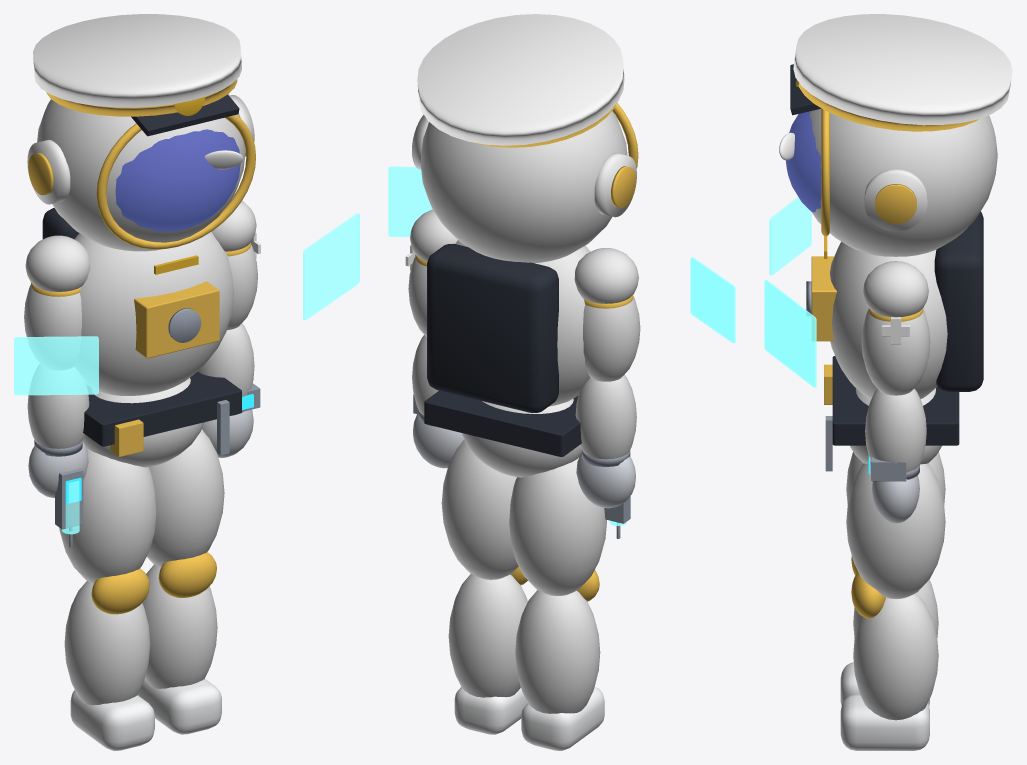
File: astronaut.glb
3 renders of one model, left to right at view 1: azimuth 30°, elevation 25°; view 2: azimuth 150°, elevation 25°; view 3: azimuth 270°, elevation 25°, orthographic.
Visible parts, largest first — view 1: Kit_pilot_CapTop, Torso, Helmet, VisorGlass, ThighR, ShinR, ThighL, ShinL, Kit_engineer_Belt, Kit_analyst_HoloB, ForearmR, ChestBox (+25 smaller); view 2: Kit_pilot_CapTop, Helmet, Pack, ThighR, ShinR, ShinL, ThighL, Kit_engineer_Belt, ForearmR, UpperArmR, Torso, PelvisMesh (+13 smaller); view 3: Kit_pilot_CapTop, Helmet, ThighL, ShinL, Torso, Pack, UpperArmL, Kit_engineer_Belt, ForearmL, Kit_analyst_HoloA, BootL, ShoulderPadL (+16 smaller).
Part boxes in pixels (bbox=[...]): Kit_pilot_CapTop: bbox=[33, 14, 241, 107]; Torso: bbox=[74, 232, 233, 395]; Helmet: bbox=[37, 94, 245, 251]; VisorGlass: bbox=[115, 129, 240, 231]; ThighR: bbox=[59, 447, 156, 583]; ShinR: bbox=[64, 581, 150, 705]; ThighL: bbox=[147, 429, 224, 567]; ShinL: bbox=[142, 564, 217, 688]; Kit_engineer_Belt: bbox=[83, 371, 241, 446]; Kit_analyst_HoloB: bbox=[14, 336, 98, 395]; ForearmR: bbox=[27, 365, 89, 448]; ChestBox: bbox=[134, 281, 219, 358]; Kit_pilot_CapTop: bbox=[417, 14, 624, 145]; Helmet: bbox=[420, 111, 627, 263]; Pack: bbox=[427, 243, 558, 412]; ThighR: bbox=[509, 458, 606, 596]; ShinR: bbox=[515, 590, 600, 713]; ShinL: bbox=[448, 574, 527, 697]; ThighL: bbox=[441, 440, 518, 579]; Kit_engineer_Belt: bbox=[424, 390, 581, 456]; ForearmR: bbox=[575, 375, 636, 459]; UpperArmR: bbox=[583, 296, 640, 381]; Torso: bbox=[455, 240, 590, 406]; PelvisMesh: bbox=[462, 399, 581, 477]; Kit_pilot_CapTop: bbox=[793, 14, 1012, 125]; Helmet: bbox=[809, 109, 997, 256]; ThighL: bbox=[846, 463, 945, 598]; ShinL: bbox=[853, 593, 938, 720]; Torso: bbox=[829, 241, 947, 399]; Pack: bbox=[934, 211, 983, 391]; UpperArmL: bbox=[861, 309, 930, 395]; Kit_engineer_Belt: bbox=[832, 356, 959, 445]; ForearmL: bbox=[865, 388, 926, 472]; Kit_analyst_HoloA: bbox=[764, 280, 816, 387]; BootL: bbox=[840, 694, 929, 750]; ShoulderPadL: bbox=[863, 261, 928, 317].
Size of the model in its own units: 1.14 by 2.14 by 0.7063.
